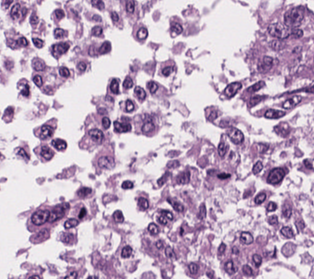nucleus: (48, 203, 68, 221), (267, 168, 285, 184), (31, 209, 49, 225), (51, 42, 68, 57), (224, 82, 241, 97), (258, 56, 273, 72), (227, 128, 243, 143), (157, 210, 172, 224), (98, 156, 114, 169), (168, 199, 184, 212), (88, 129, 103, 142), (114, 121, 131, 132), (264, 109, 284, 118), (248, 81, 264, 92), (51, 139, 66, 150), (40, 125, 52, 138), (41, 146, 53, 159), (177, 170, 189, 183), (240, 232, 253, 244), (134, 86, 145, 100), (274, 124, 288, 135), (225, 260, 236, 274), (218, 140, 227, 157), (249, 96, 264, 106), (98, 41, 110, 53), (32, 58, 44, 70), (142, 120, 154, 132), (157, 172, 169, 184), (77, 187, 91, 197), (64, 218, 78, 228), (53, 28, 66, 38), (252, 161, 262, 174), (165, 246, 175, 259), (17, 148, 28, 159), (137, 27, 147, 39), (147, 81, 157, 93), (113, 210, 123, 222), (36, 230, 48, 240), (121, 245, 131, 257), (269, 40, 282, 49), (110, 79, 118, 93), (254, 193, 265, 203), (138, 198, 148, 209), (148, 223, 158, 234), (242, 264, 252, 275), (20, 84, 29, 96), (125, 99, 134, 111), (252, 254, 261, 266), (198, 203, 205, 218), (59, 67, 69, 77), (188, 263, 198, 273), (33, 75, 42, 86), (123, 77, 132, 88), (61, 233, 72, 242), (121, 180, 133, 188), (218, 243, 226, 255), (17, 37, 27, 46), (33, 38, 43, 47), (77, 61, 86, 71), (162, 66, 171, 76), (78, 207, 86, 218), (65, 271, 77, 278), (267, 202, 276, 211), (268, 215, 277, 224), (102, 117, 109, 128), (167, 160, 178, 167), (155, 240, 163, 248), (218, 173, 230, 178), (232, 247, 238, 253), (30, 275, 39, 278)
